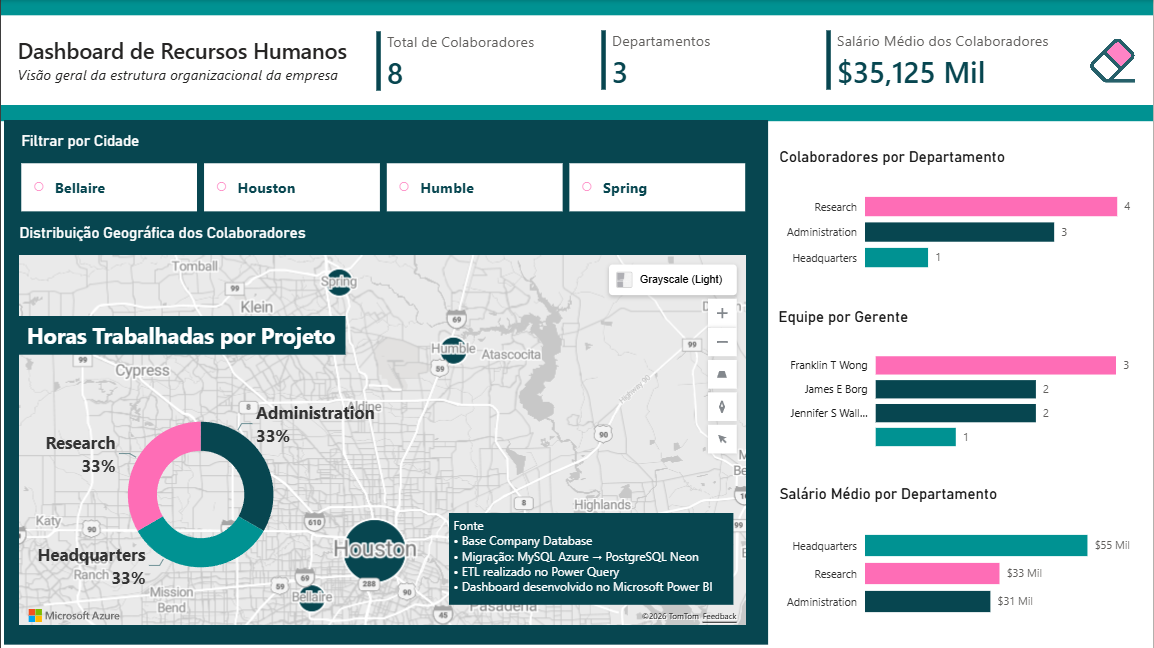

The dashboard page shown, as its layout file describes it:
{"tool":"powerbi","page":{"name":"Dispersão","canvas":[1280,720],"ordinal":0},"visuals":[{"type":"shape","box":[0,116.4,1280,18.5],"z":0},{"type":"shape","box":[3.3,133.8,849.4,583],"z":1000},{"type":"cardVisual","fields":{"Data":["CountNonNull(emplo & depart.employee_name)"]},"box":[399.7,17.2,250,100],"z":2000},{"type":"clusteredBarChart","title":"Colaboradores por Departamento","fields":{"Category":["emplo & depart.dname"],"Y":["CountNonNull(emplo & depart.employee_name)"]},"box":[860.1,164.8,400.2,150],"z":3000},{"type":"azureMap","title":"Distribuição Geográfica dos Colaboradores","fields":{"Category":["emplo & depart.city","emplo & depart.state"],"Size":["CountNonNull(emplo & depart.employee_name)"]},"box":[15.6,248.9,816.7,451.1],"z":4000},{"type":"clusteredBarChart","title":"Equipe por Gerente","fields":{"Category":["emplo & depart.manager_name"],"Y":["CountNonNull(emplo & depart.employee_name)"]},"box":[858.6,342,400,170],"z":5000},{"type":"barChart","title":"Salário Médio por Departamento","fields":{"Category":["emplo & depart.dname"],"Y":["Avg(emplo & depart.salary)"]},"box":[860,539.3,400,160],"z":6000},{"type":"donutChart","title":"Horas por Projeto","fields":{"Category":["emplo & depart.dname"],"Y":["Sum(company works_on.hours)"]},"box":[18.6,438.6,405.9,221.1],"z":7000},{"type":"cardVisual","fields":{"Data":["CountNonNull(company departament.dnumber)"]},"box":[649.9,17.1,250,100.2],"z":8000},{"type":"advancedSlicerVisual","title":"Filtrar por Cidade","fields":{"Values":["emplo & depart.city"]},"box":[17.8,146.7,814.4,93.3],"z":9000},{"type":"textbox","box":[18.1,351,364.6,42.9],"z":10000},{"type":"cardVisual","fields":{"Data":["Avg(emplo & depart.salary)"]},"box":[900.4,17.1,300,100.2],"z":11000},{"type":"textbox","box":[13.5,35,398.4,77.9],"z":12000},{"type":"shape","box":[0,0,1280,17.2],"z":13000},{"type":"textbox","box":[498.1,569.9,316.5,102.2],"z":14000},{"type":"actionButton","box":[1201.1,37.8,68.9,58.9],"z":15000}]}

Visuals, with their boxes in screenshot pixels (x1, y1, x2, y2), scaled from the page's 1280x720 canvas onto the 1154x648 screenshot:
shape: bbox=[0, 105, 1153, 121]
shape: bbox=[3, 120, 769, 645]
cardVisual - CountNonNull(emplo & depart.employee_name): bbox=[360, 15, 586, 105]
"Colaboradores por Departamento" clusteredBarChart: bbox=[775, 148, 1136, 283]
"Distribuição Geográfica dos Colaboradores" azureMap: bbox=[14, 224, 750, 630]
"Equipe por Gerente" clusteredBarChart: bbox=[774, 308, 1135, 461]
"Salário Médio por Departamento" barChart: bbox=[775, 485, 1136, 629]
"Horas por Projeto" donutChart: bbox=[17, 395, 383, 594]
cardVisual - CountNonNull(company departament.dnumber): bbox=[586, 15, 811, 106]
"Filtrar por Cidade" advancedSlicerVisual: bbox=[16, 132, 750, 216]
textbox: bbox=[16, 316, 345, 355]
cardVisual - Avg(emplo & depart.salary): bbox=[812, 15, 1082, 106]
textbox: bbox=[12, 32, 371, 102]
shape: bbox=[0, 0, 1153, 15]
textbox: bbox=[449, 513, 734, 605]
actionButton: bbox=[1083, 34, 1145, 87]
